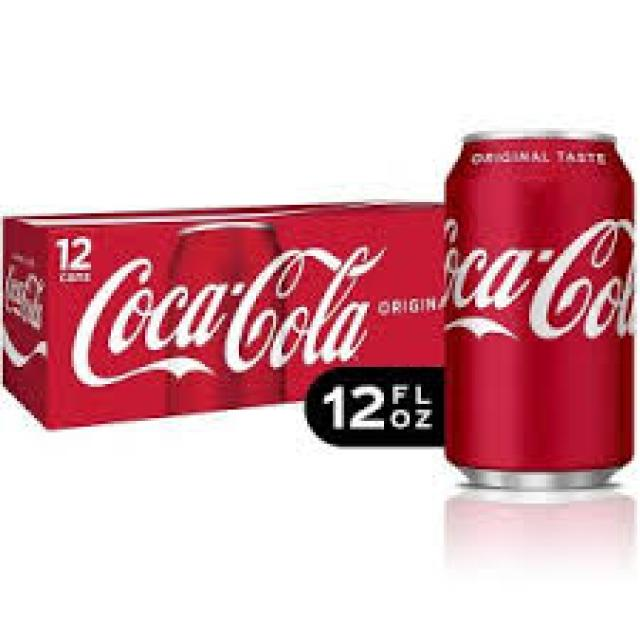Coca-Cola: (427, 117, 640, 495)
